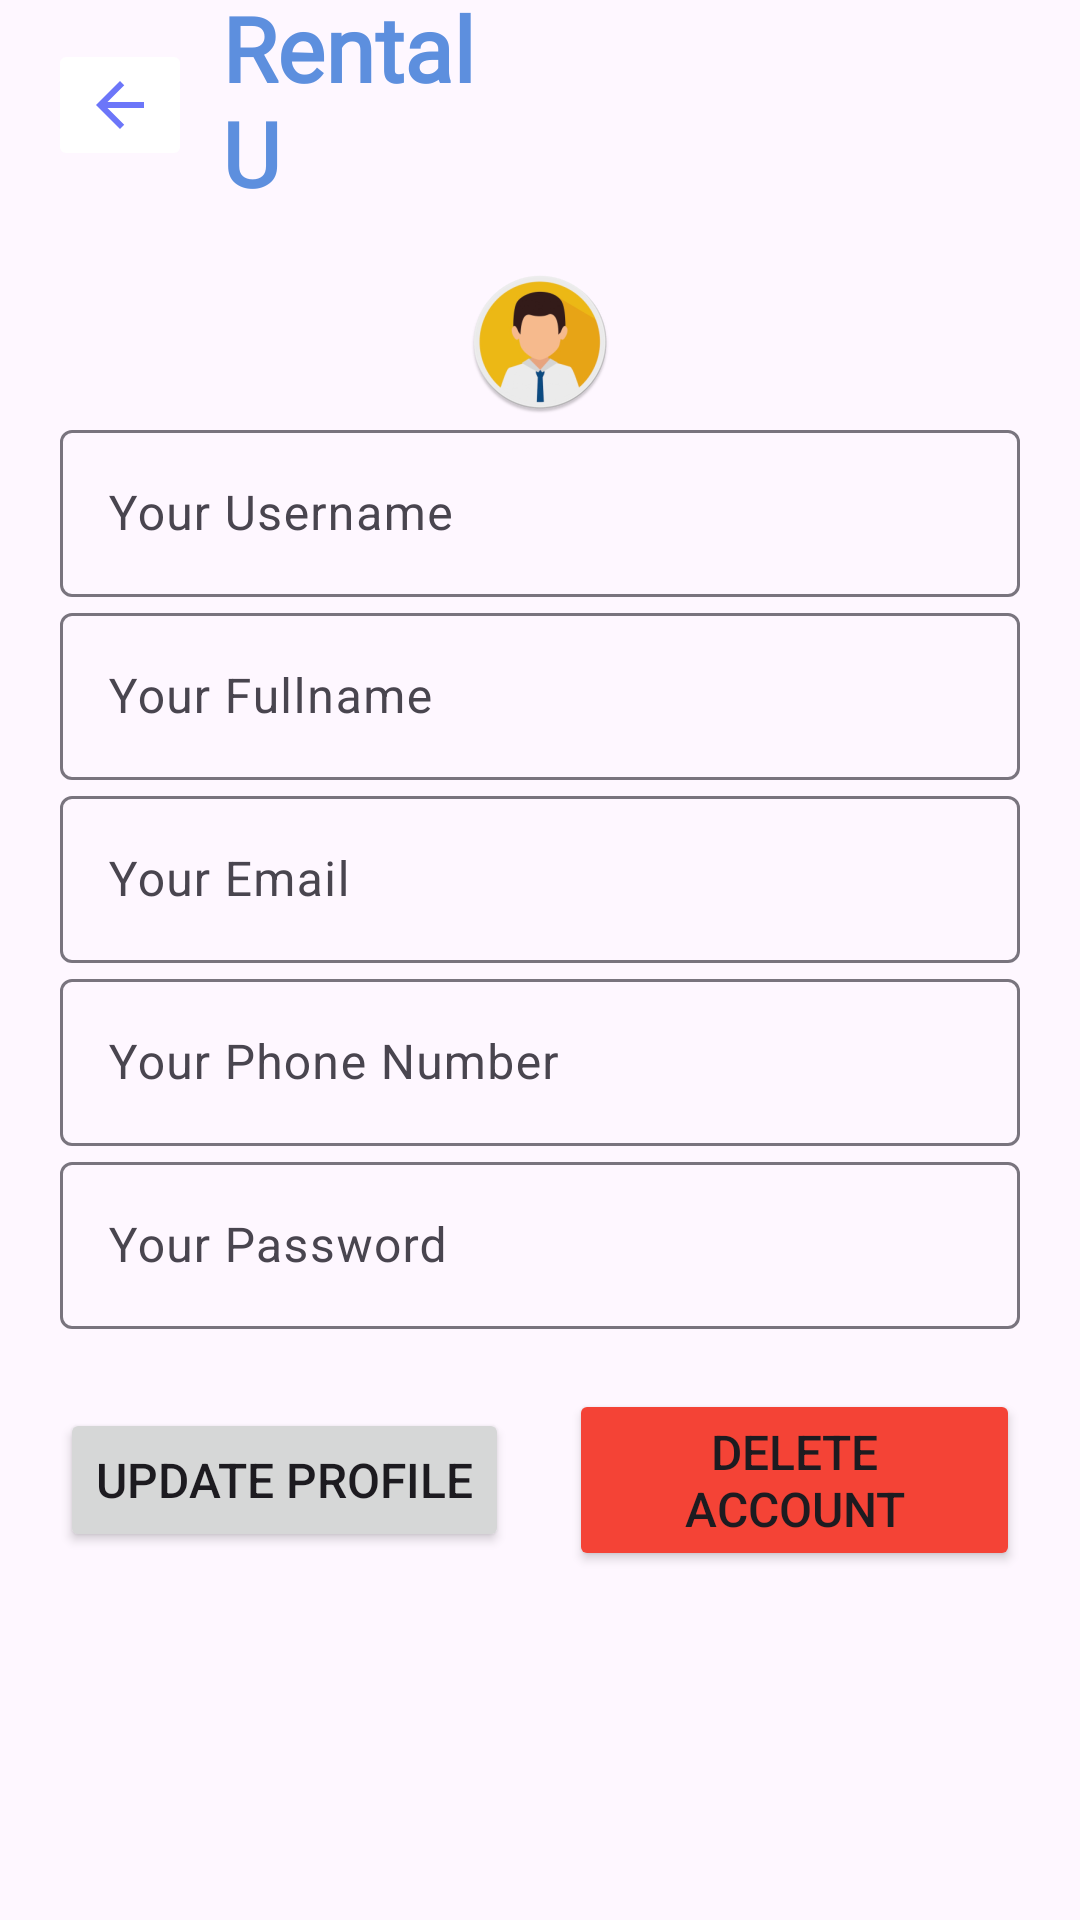

Named icons in this screenshot (1080px x 1920px) and their bounding boxes, (x1, y1, x2, y2):
arrowback: (96, 81, 144, 129)
profile round: (474, 281, 607, 411)
